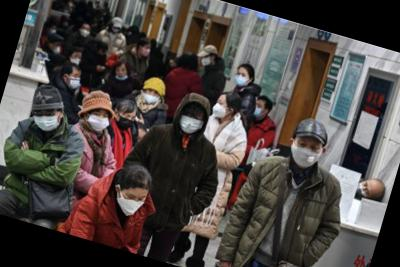mask_weared_incorrect: (113, 65, 130, 83)
with_mask: (286, 136, 326, 174), (113, 187, 149, 221), (29, 106, 62, 136), (175, 109, 207, 139), (84, 106, 113, 137), (114, 111, 137, 135), (354, 178, 374, 204), (210, 99, 231, 122), (141, 86, 162, 108), (66, 70, 84, 91), (232, 70, 250, 89), (252, 102, 266, 122), (77, 22, 93, 39), (199, 54, 214, 68), (50, 39, 62, 56), (140, 44, 153, 59), (70, 52, 82, 66), (47, 24, 58, 38), (97, 49, 108, 62), (112, 25, 122, 35)
